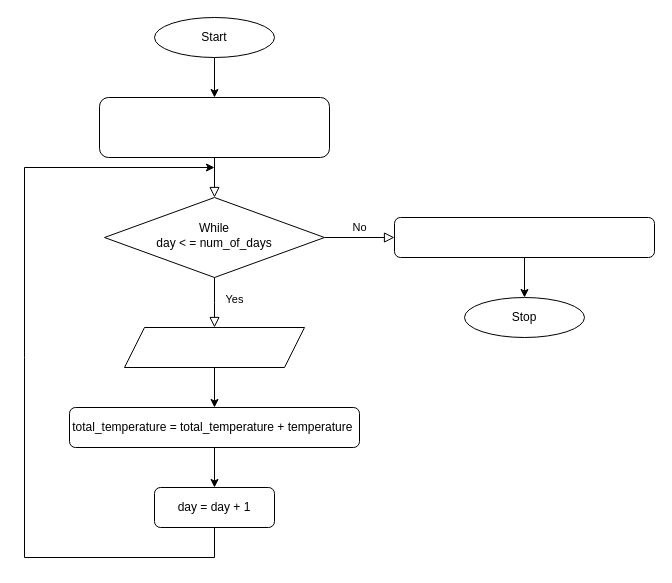
This 672x583 diagram has some shape labels left out. The centre of each missing label's shape, as x and y in pixels:
"average = total_temperature / num_of_days" belongs at (524,237).
"day = 1, num_of_days = 7, total_temperature = 0" belongs at (214,127).
"Input temperature" belongs at (214,347).
